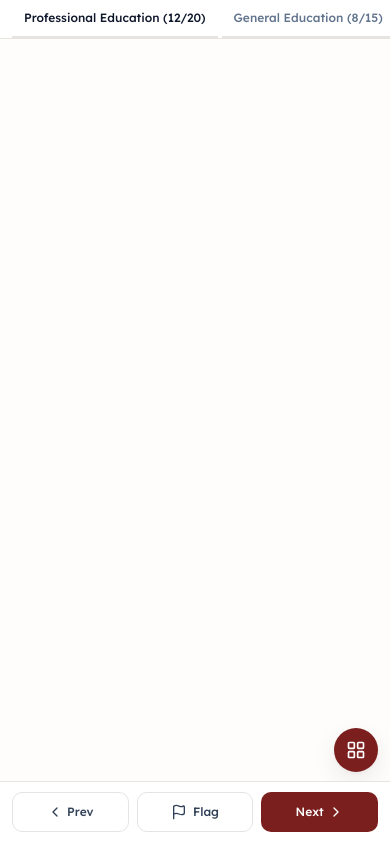
Test: MobileExamNav › opens the question grid in a bottom sheet
The image size is (390, 844).
Click the button named "Open question grid" at x=356, y=750, box left=334, top=728, right=378, bottom=772
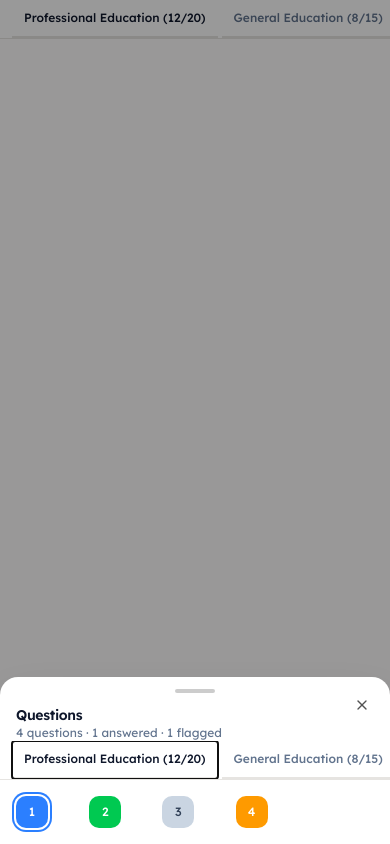
Now the tab "Professional Education (12/20)" is shown, box left=12, top=741, right=218, bottom=779
Now the button named "Question 1, current" is shown, box left=16, top=796, right=48, bottom=828
Now the button named "Question 4, flagged" is shown, box left=236, top=796, right=268, bottom=828
